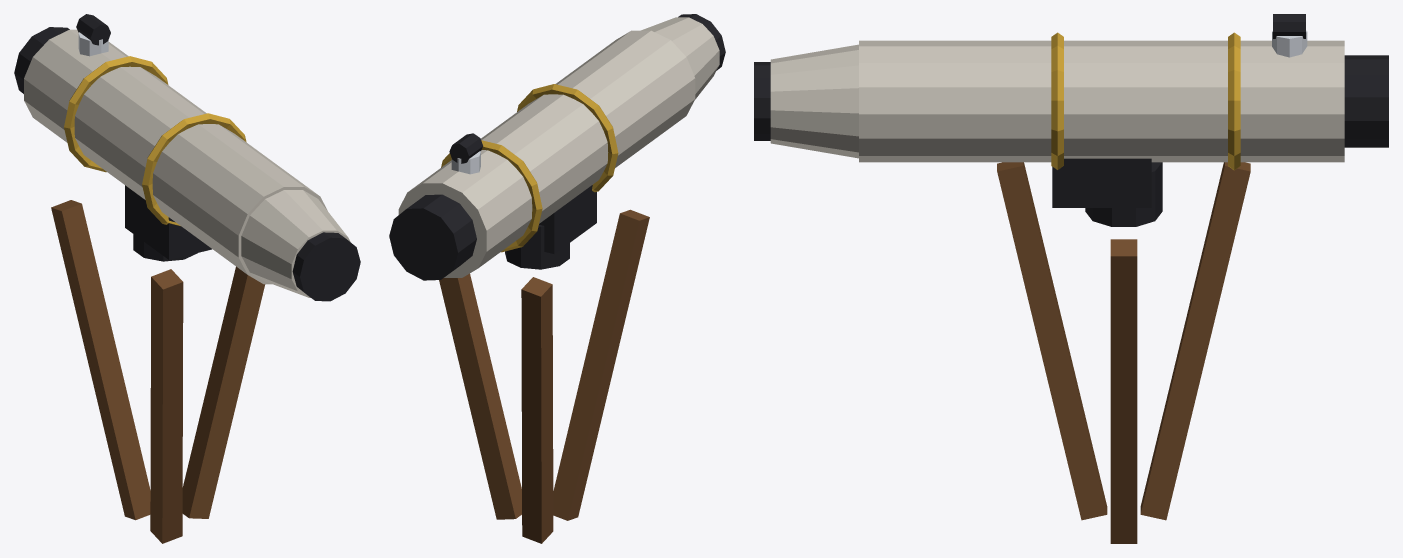
File: telescope.glb
3 renders of one model, left to right at view 1: azimuth 30°, elevation 25°; view 2: azimuth 150°, elevation 25°; view 3: azimuth 270°, elevation 25°, orthographic. The views are drawn at different scales.
Parts seen in each view (by area): view 1: telescope; view 2: telescope; view 3: telescope.
Part boxes in pixels (box(x1,y1,x2,y2)): telescope: box(14, 14, 360, 543); telescope: box(389, 14, 725, 543); telescope: box(754, 14, 1388, 543).
Size of the model in its own units: 0.202 by 0.5105 by 0.575.
